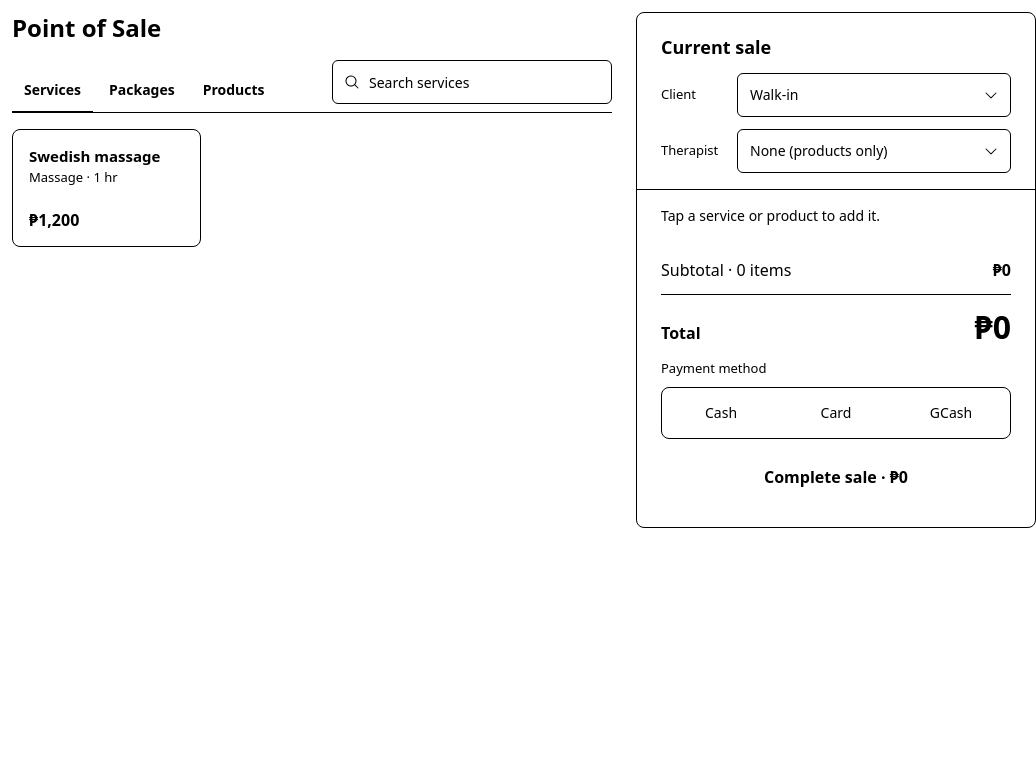
Scenario: Point of Sale › sells 2 of a product, shows the receipt and lowers the stock
Step 1. Click the button "Products" → (234,91), box [191,69,276,113]
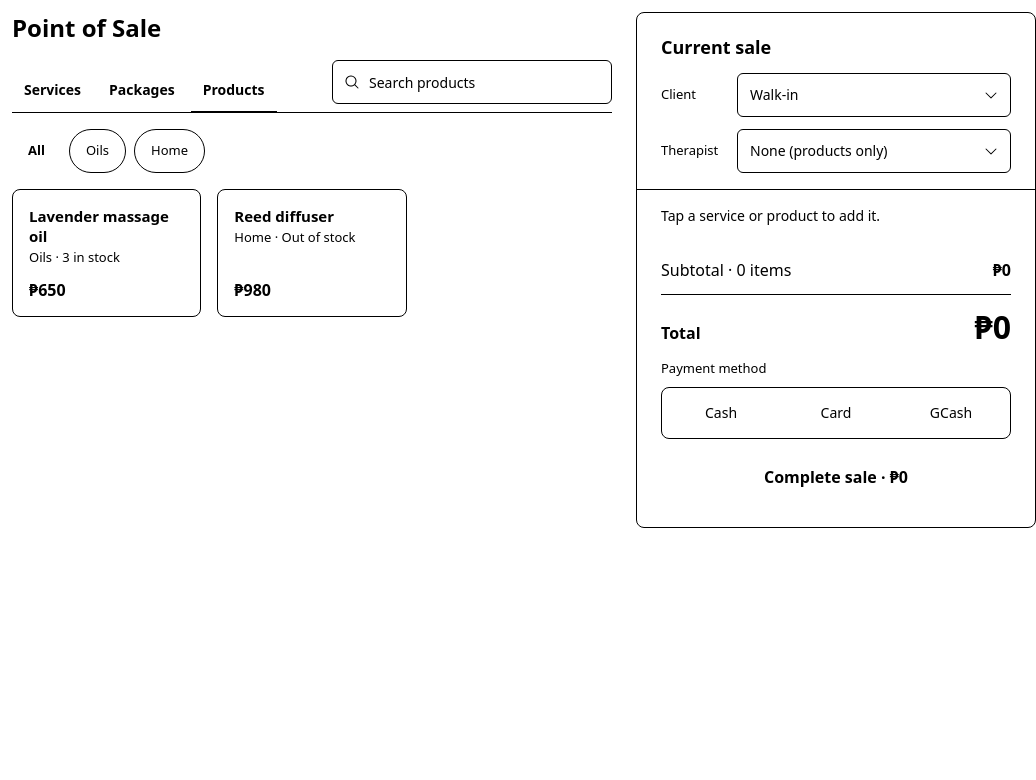
Now the button "Reed diffuser Home · Out of stock ₱980" is disabled, box [217,189,407,316]
Step 2. Click the button "Lavender massage oil Oils · 3 in stock ₱650" → (107,253), box [12,189,201,316]
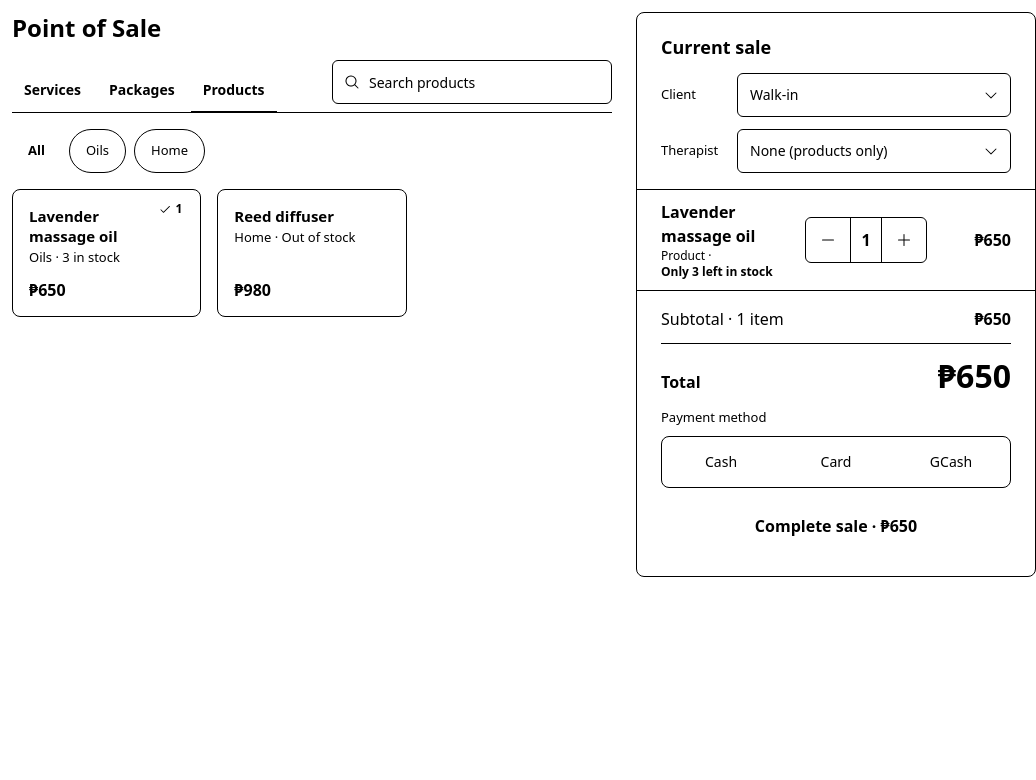
Step 3. Click the button "Lavender massage oil Oils · 3 in stock ₱650 1" → (107,253), box [12,189,201,316]
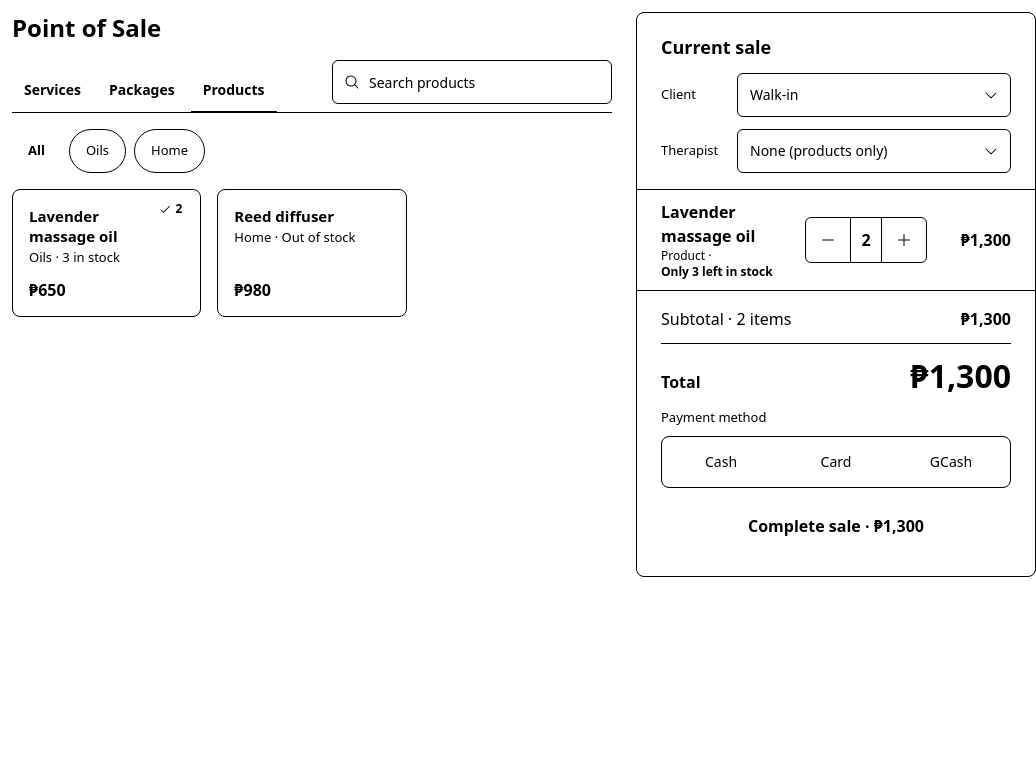
Now the text "Only 3 left in stock" is shown, box [661,264,773,280]
Step 4. Click the button "Cash" → (721,462), box [665,440,777,484]
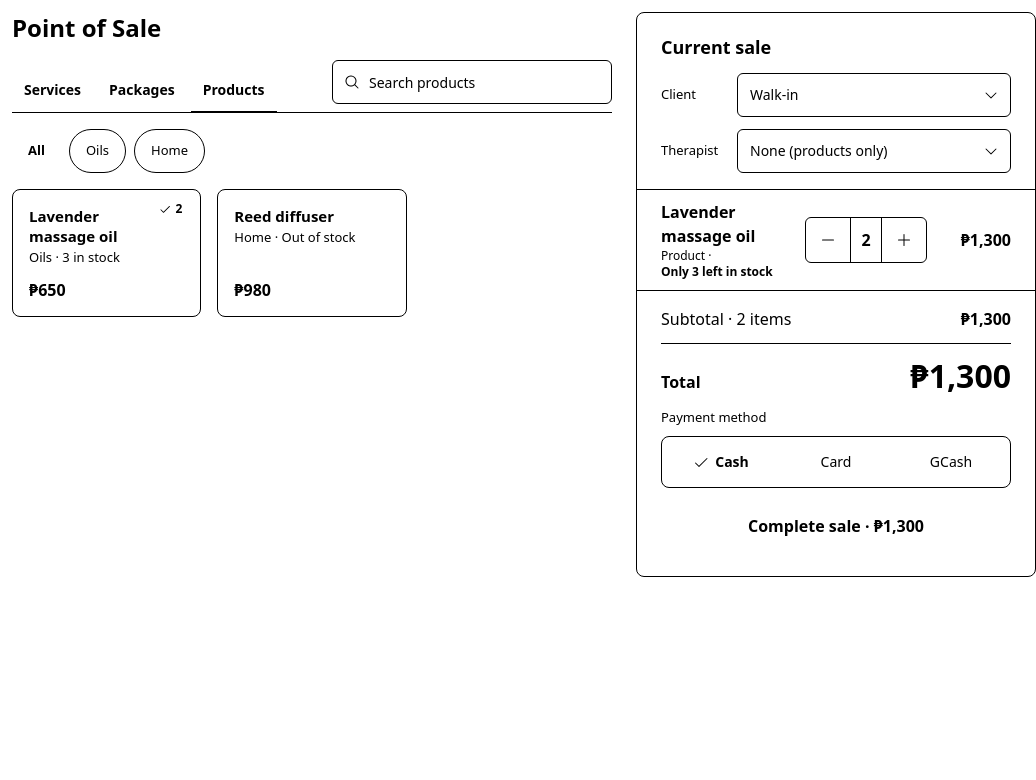
Step 5. Click the button "Complete sale · ₱1,300" → (836,526), box [661,500,1011,552]
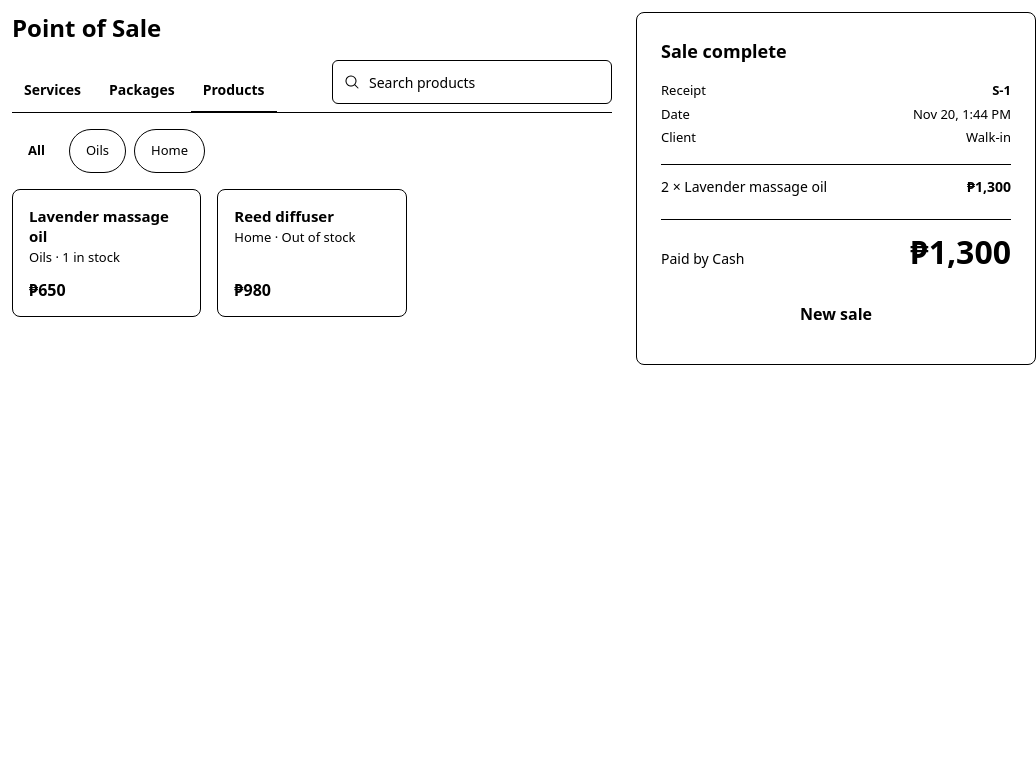
Now the element named "Receipt" shows "S-1", box [992,81,1011,99]
Now the element named "Receipt" shows "₱1,300", box [967,176,1011,196]
Now the element named "Receipt" shows "Walk-in", box [966,128,1011,146]
Step 6. Click the button "New sale" → (836,314), box [661,288,1011,340]
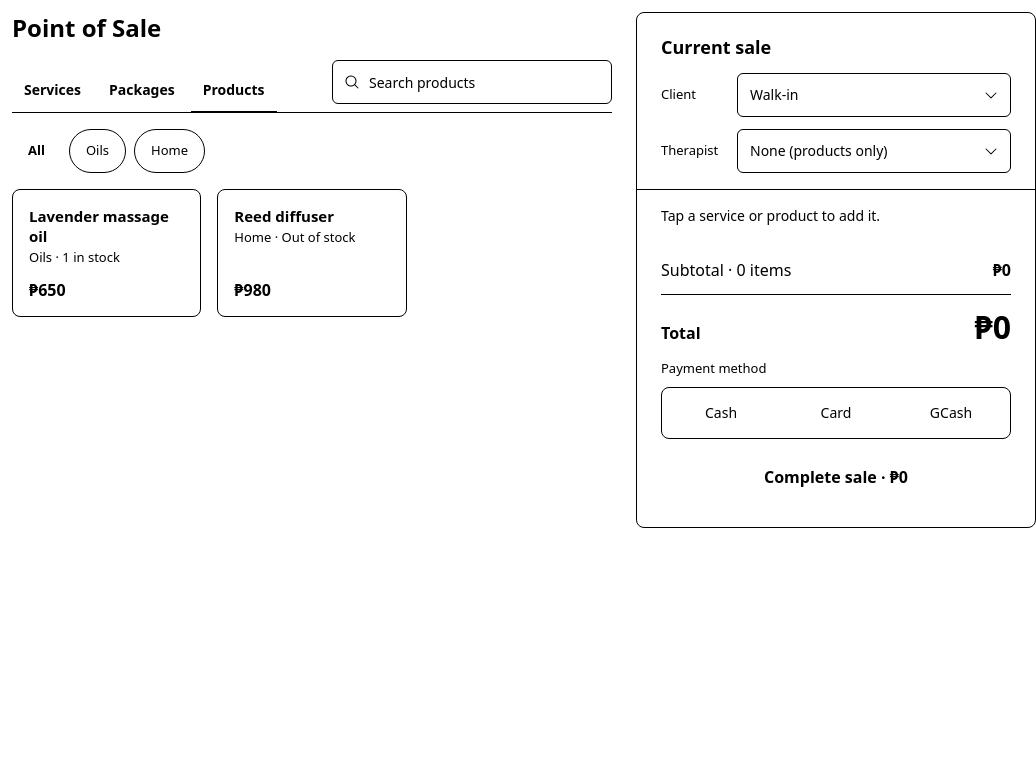
Now the element named "Receipt" is gone
Now the heading "Current sale" is shown, box [661,35,771,59]
